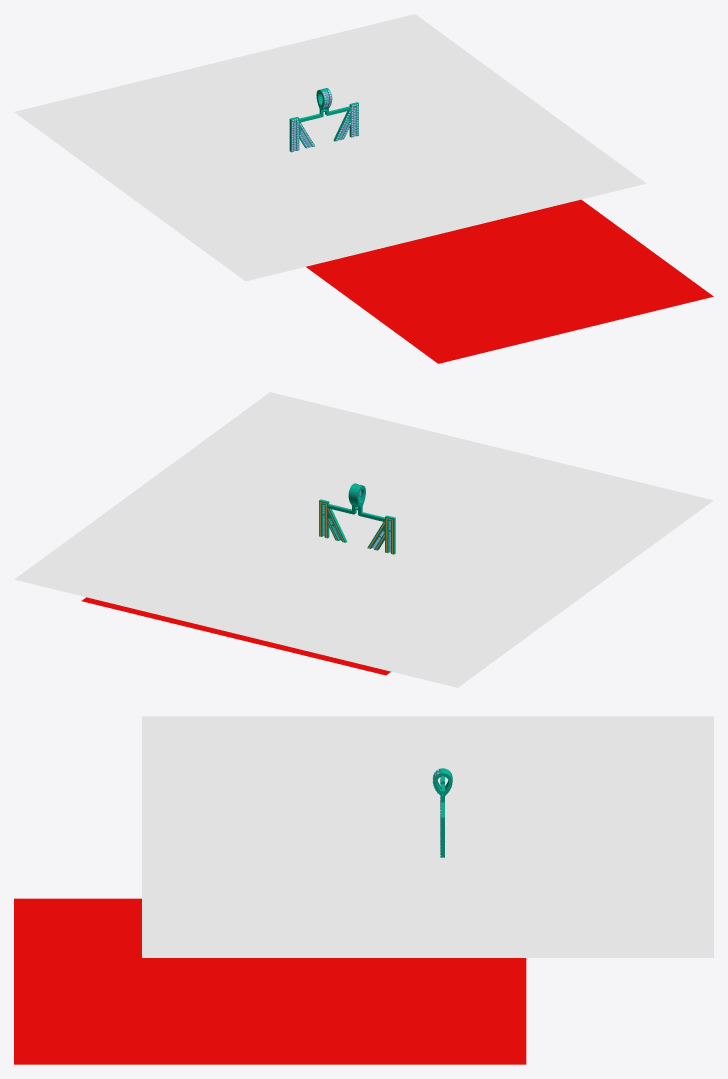
The picture shows the model from 3 angles, top to bottom: view 1: azimuth 30°, elevation 25°; view 2: azimuth 150°, elevation 25°; view 3: azimuth 270°, elevation 25°; orthographic projection. The views are drawn at different scales.
Parts seen in each view (by area): view 1: GroundPlane, PN 0026(front).3dm; view 2: GroundPlane, PN 0026(front).3dm; view 3: GroundPlane, PN 0026(front).3dm.
Part boxes in pixels (x1,y1,x2,y2): GroundPlane: (14, 14, 646, 281); PN 0026(front).3dm: (289, 88, 713, 363); GroundPlane: (14, 392, 713, 687); PN 0026(front).3dm: (81, 483, 395, 675); GroundPlane: (142, 716, 713, 957); PN 0026(front).3dm: (14, 768, 526, 1064).
Bounding box in the file's own units: 14.82 × 4.51 × 17.48.
